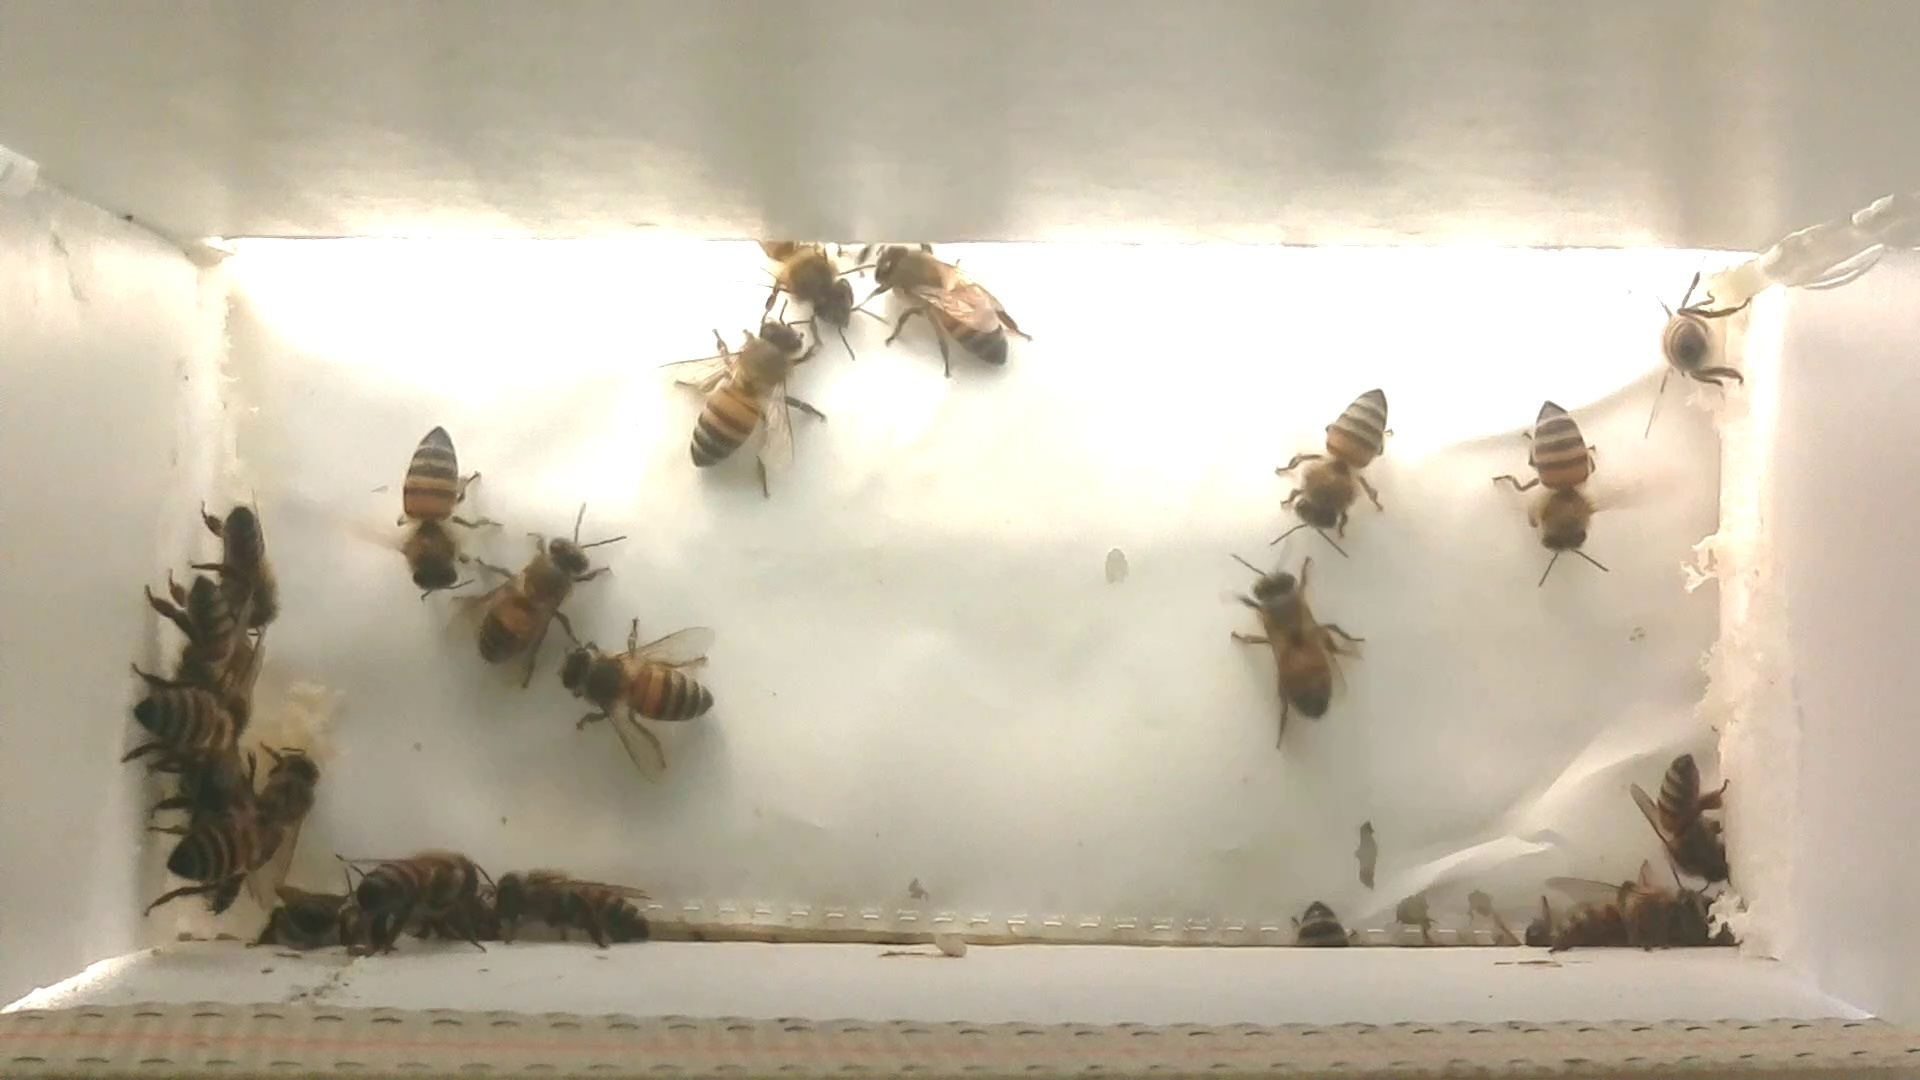bee: (655, 306, 843, 506), (1215, 546, 1383, 752), (1480, 386, 1636, 595), (550, 599, 731, 778), (1253, 363, 1408, 564), (853, 222, 1043, 384), (459, 512, 620, 694), (355, 407, 495, 615), (1625, 262, 1760, 440), (477, 849, 665, 969), (1619, 733, 1755, 890), (344, 824, 500, 960), (744, 214, 878, 355), (1536, 855, 1705, 963), (141, 579, 262, 728), (185, 484, 301, 640), (123, 669, 253, 781), (142, 794, 276, 898), (265, 884, 368, 960), (1269, 881, 1364, 960)
